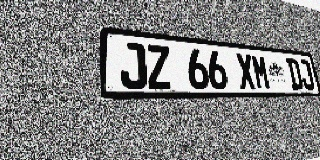6: (186, 48, 210, 89), (206, 50, 229, 89)
D: (286, 58, 304, 90)
J: (119, 41, 148, 89), (298, 59, 315, 90)
M: (251, 54, 271, 90)
X: (235, 53, 256, 89)
Z: (146, 44, 172, 89)
